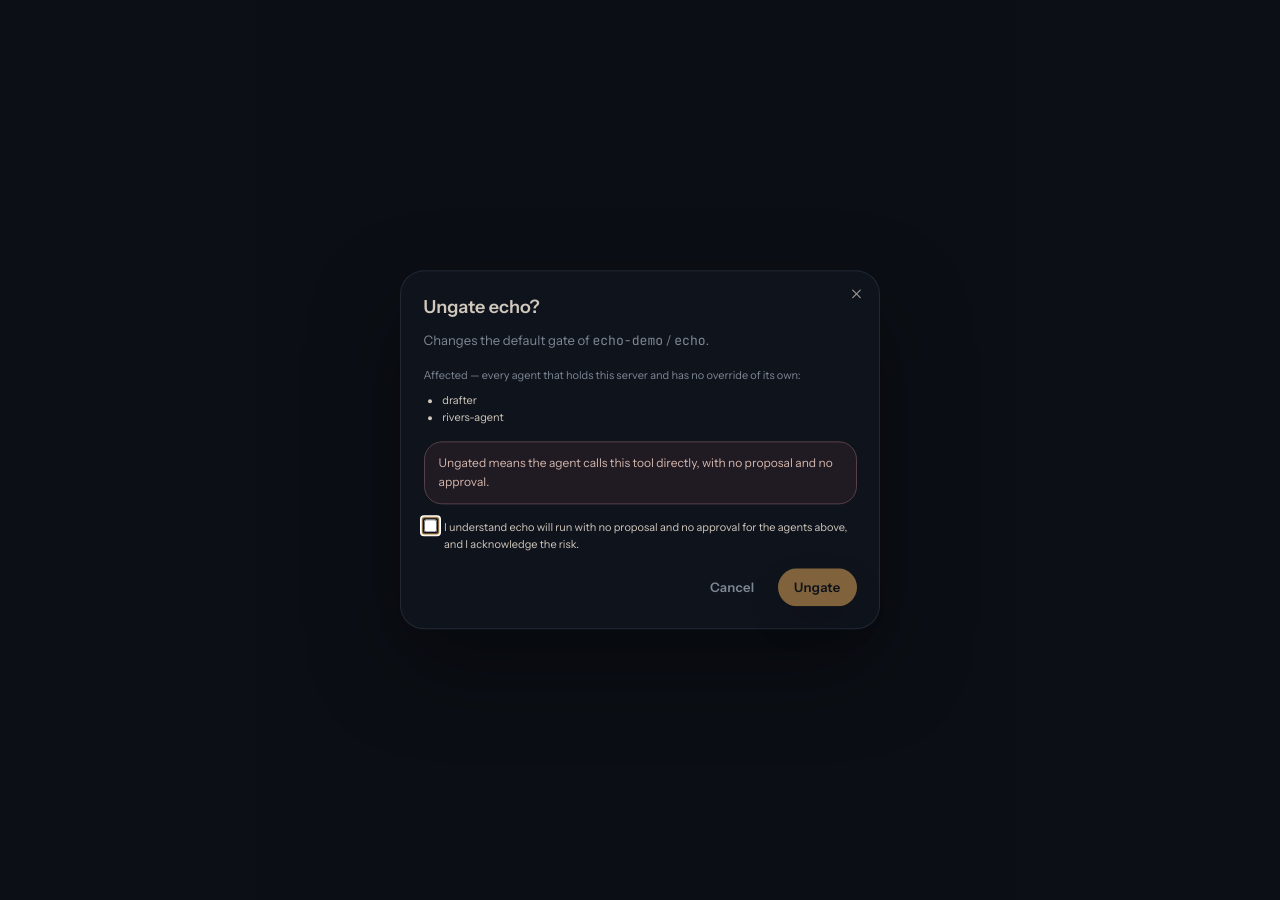
Test case: UngateDialog › shows the server refusal inline and stays open
Click the checkbox: (430, 526) [424, 520, 436, 533]
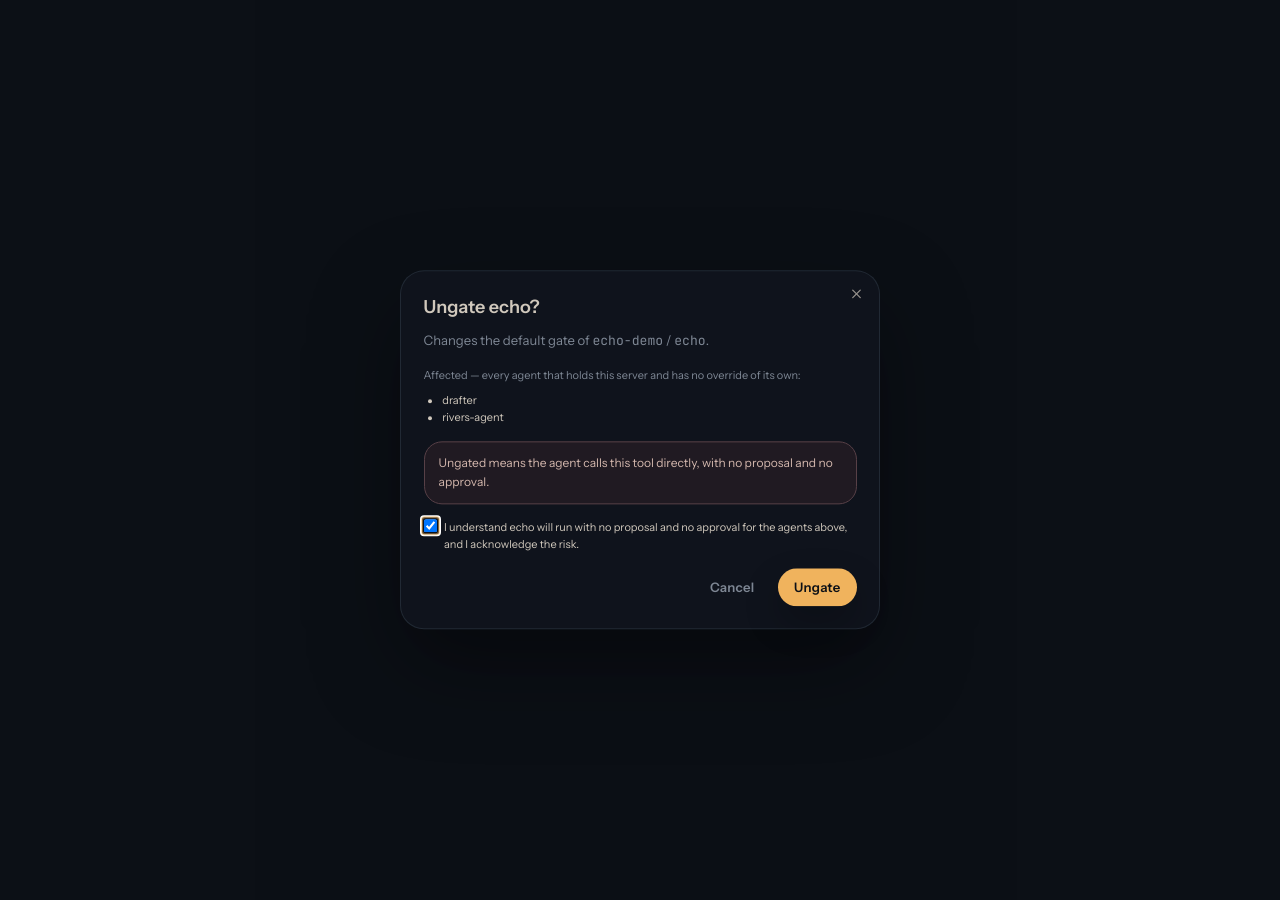
Click the button "Ungate": (817, 587) [778, 569, 856, 606]
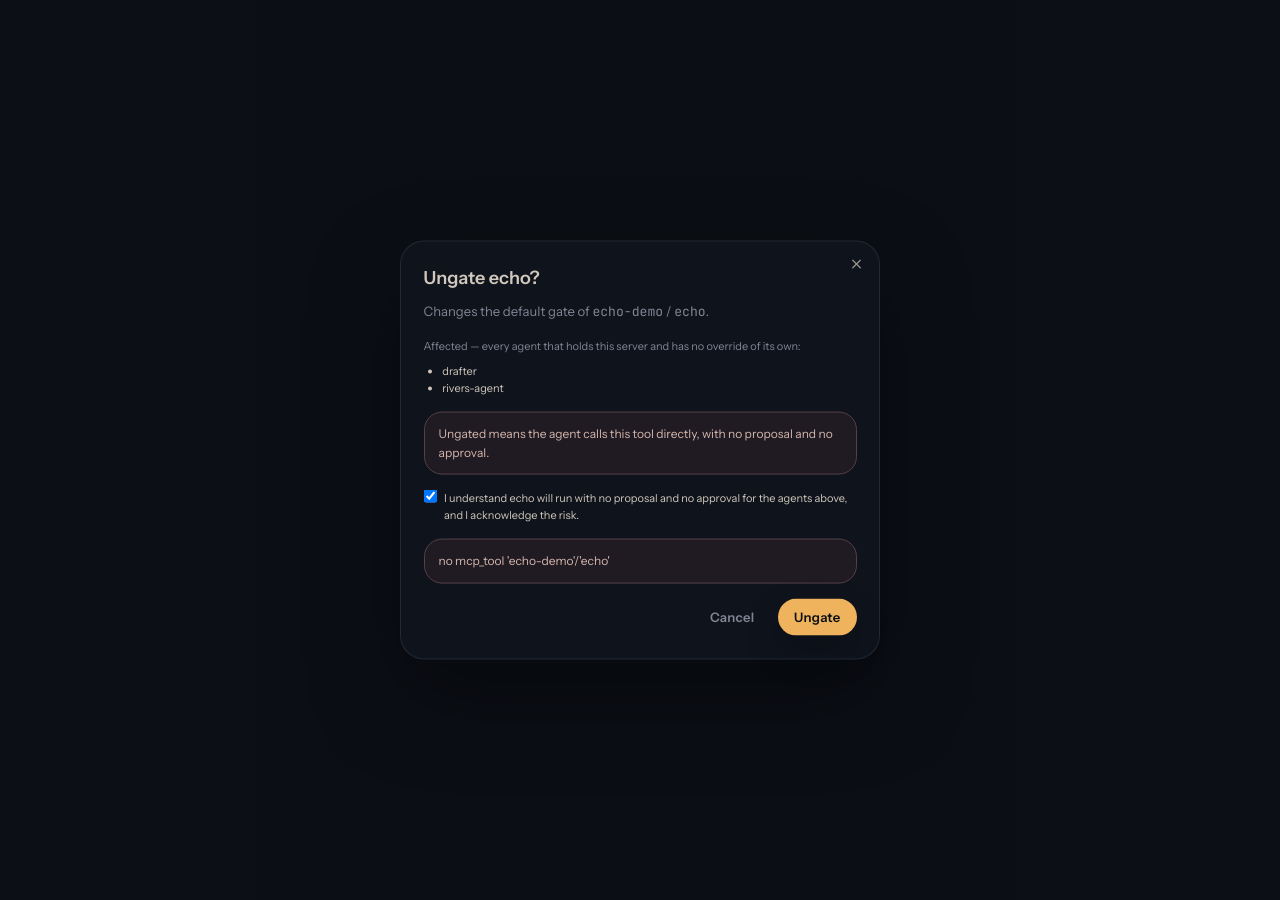
Now the text "no mcp_tool 'echo-demo'/'echo'" is shown, box [424, 539, 856, 584]
